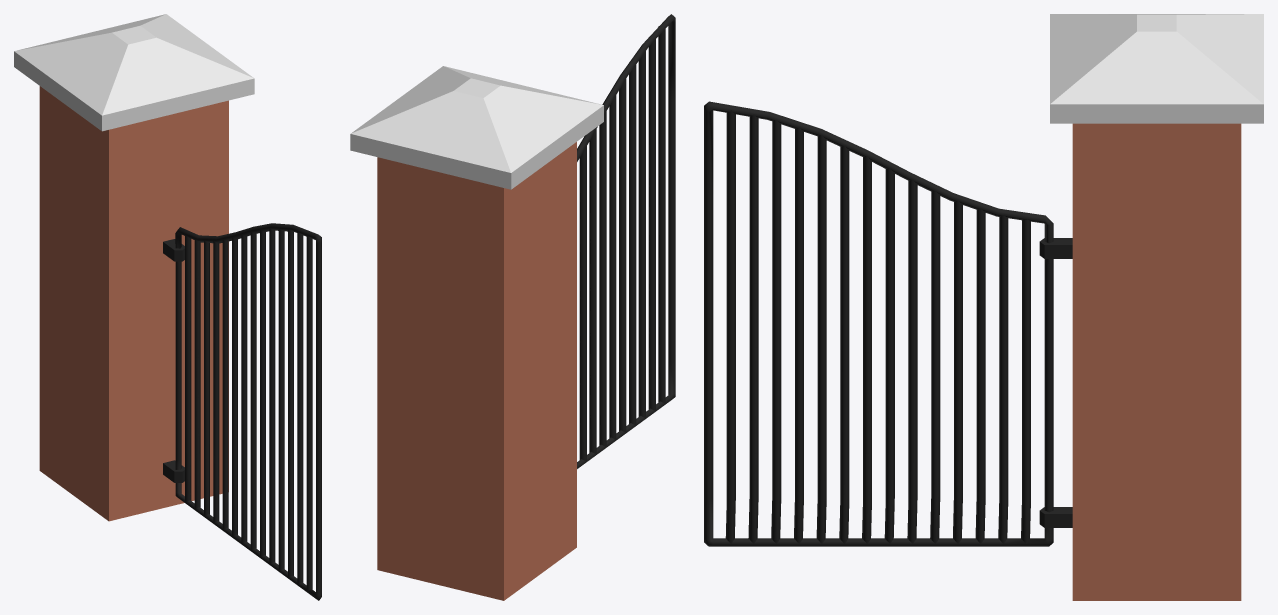
Rendered from brick_wall_04.fbx.
3 views of the same model, side by side, from view 1: azimuth 30°, elevation 25°; view 2: azimuth 150°, elevation 25°; view 3: azimuth 270°, elevation 25° (orthographic). The views are drawn at different scales.
Parts seen in each view (by area): view 1: BrickWall_04; view 2: BrickWall_04; view 3: BrickWall_04.
Boxes of the visible parts, x1,y1,x2,y2 form: BrickWall_04: (14,14,321,600); BrickWall_04: (350,14,675,600); BrickWall_04: (704,14,1263,600).
Bounding box in the file's own units: 94.22 × 263 × 247.
